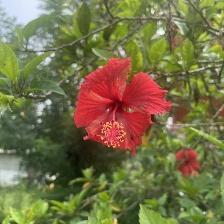hibiscus: (74, 55, 176, 157)
